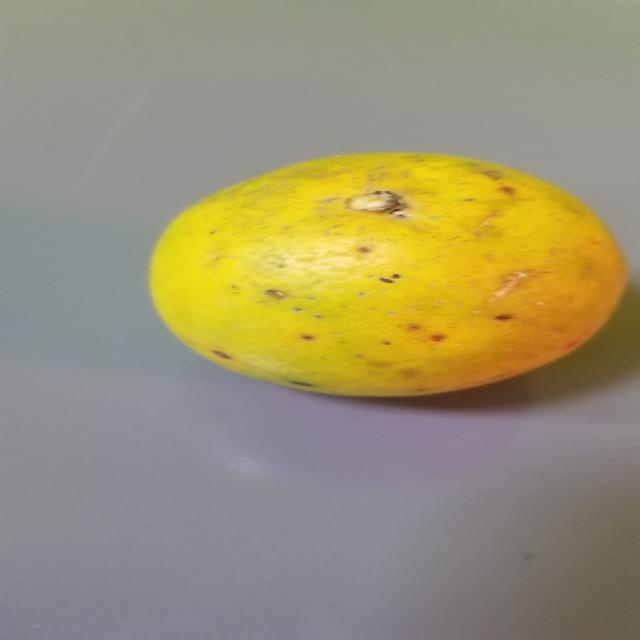agrume: (137, 144, 640, 408)
